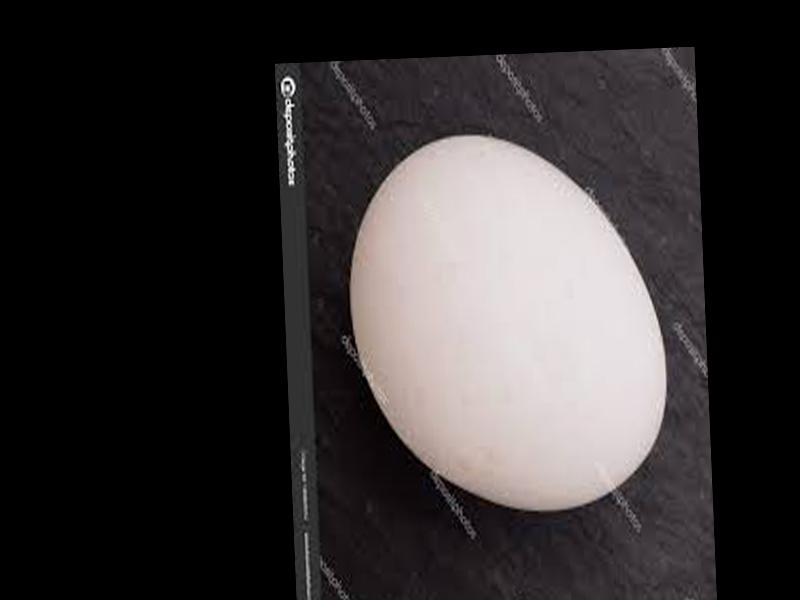Eggs: (343, 128, 669, 518)
